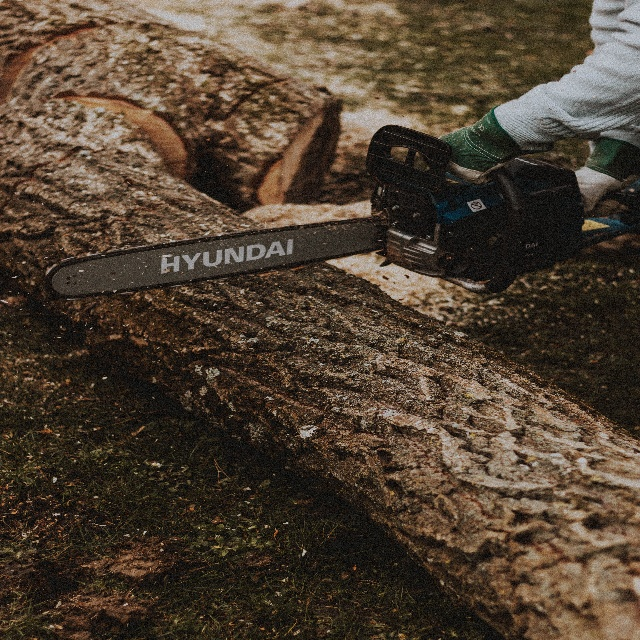Guantes: (439, 107, 513, 180), (573, 141, 640, 208)
